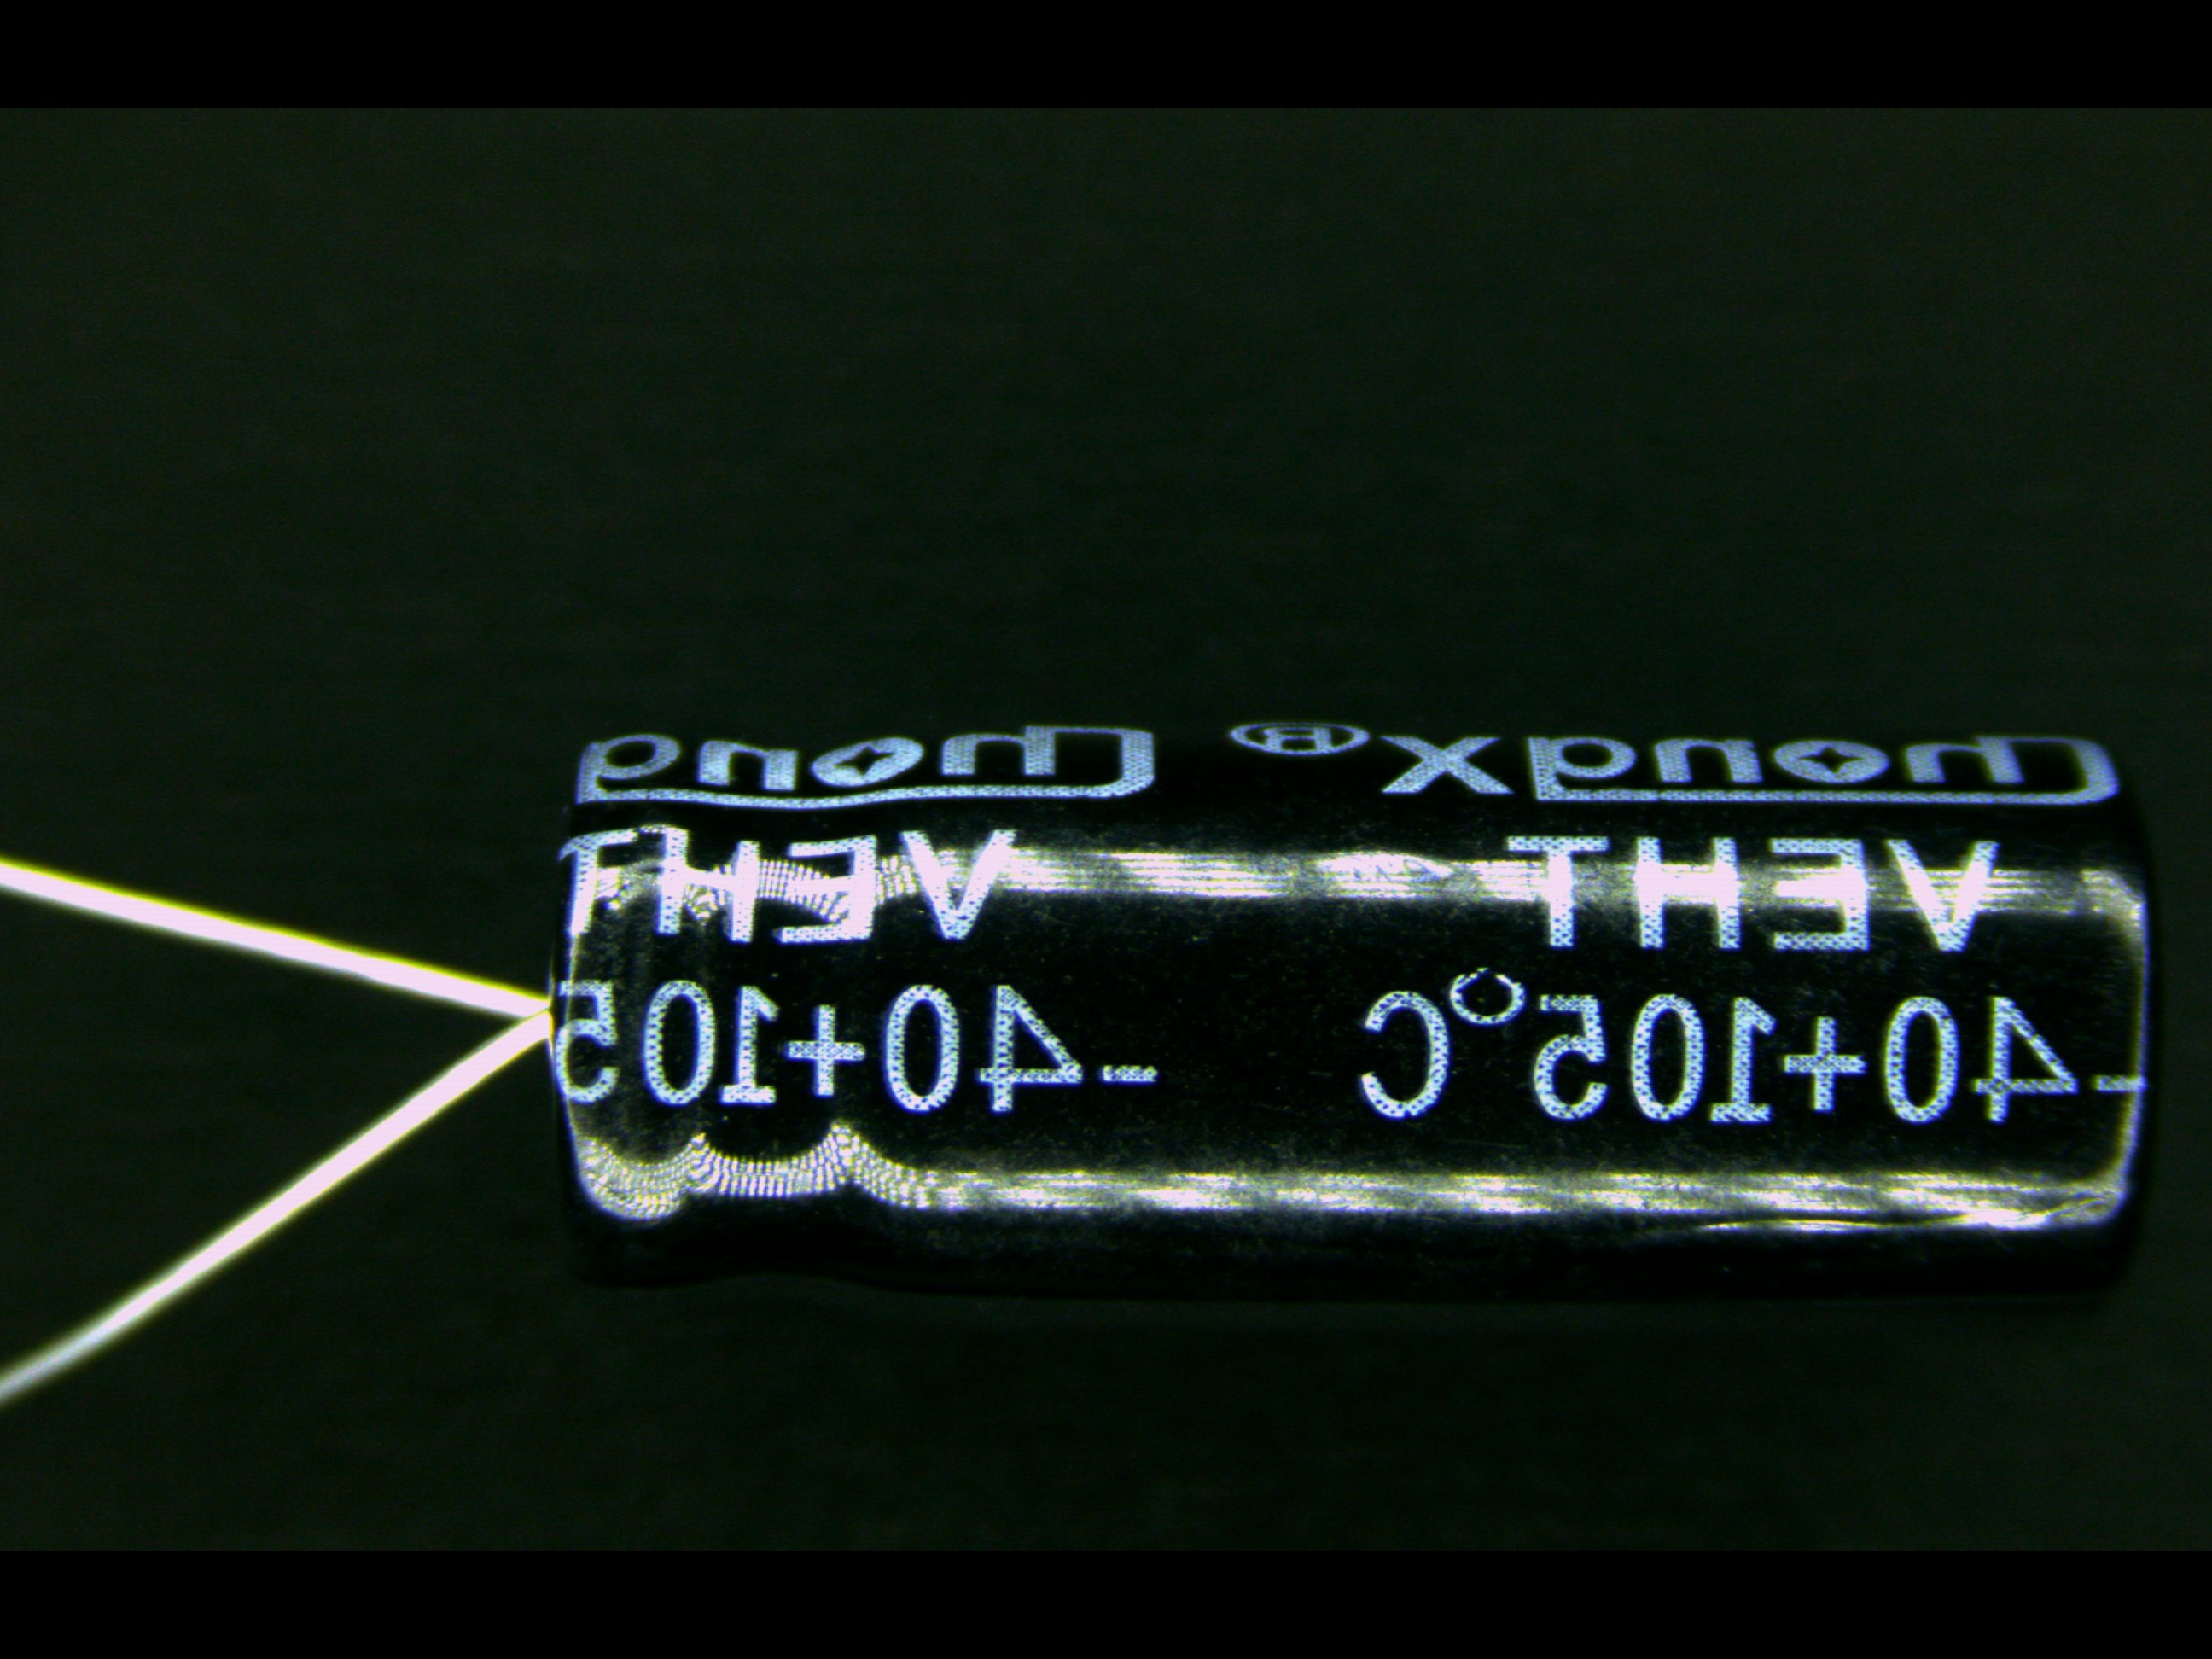c3: (204, 725, 2167, 1291)
